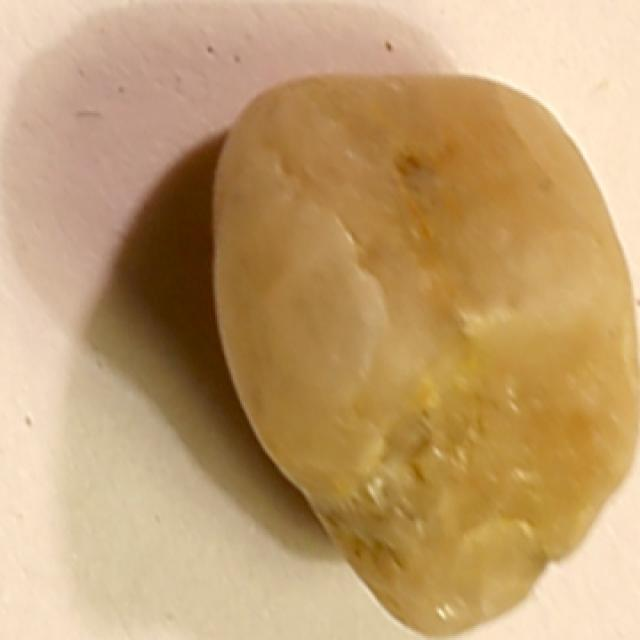stone: (204, 68, 639, 640)
